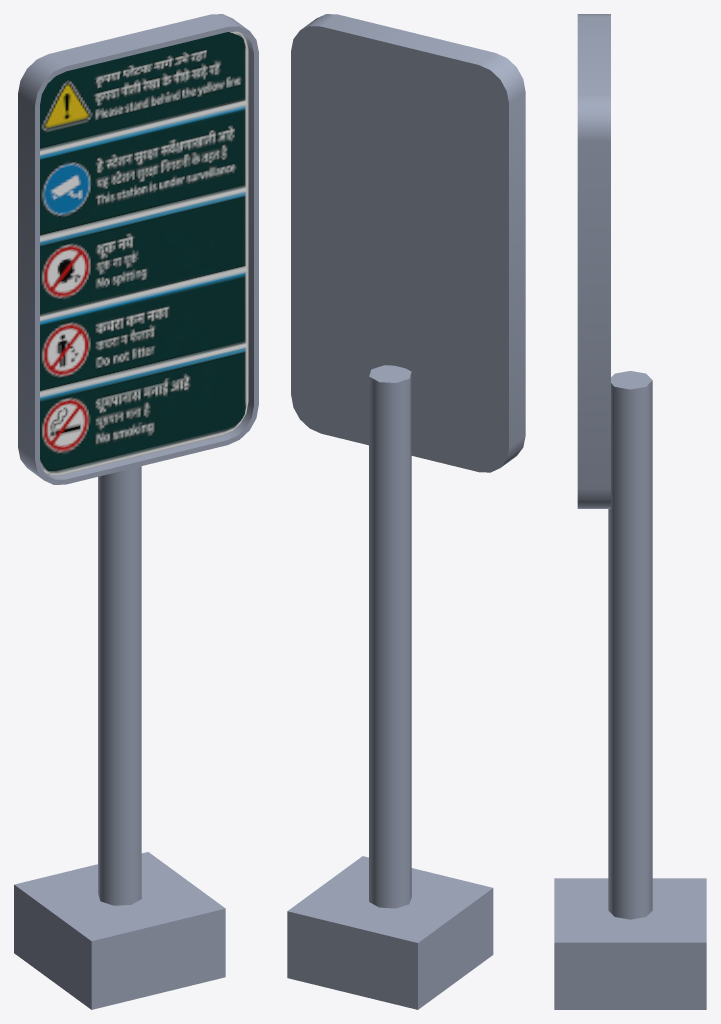
The model's file is Rule_BoardStand_003.fbx.
3 renders of one model, left to right at view 1: azimuth 30°, elevation 25°; view 2: azimuth 150°, elevation 25°; view 3: azimuth 270°, elevation 25°, orthographic. The views are drawn at different scales.
Parts seen in each view (by area): view 1: Rule BoardStand.003; view 2: Rule BoardStand.003; view 3: Rule BoardStand.003.
Boxes of the visible parts, <box> form: Rule BoardStand.003: <box>14,14,258,1009</box>; Rule BoardStand.003: <box>287,14,525,1009</box>; Rule BoardStand.003: <box>554,14,706,1009</box>.
Bounding box in the file's own units: 0.6855 × 2.75 × 0.4109.
